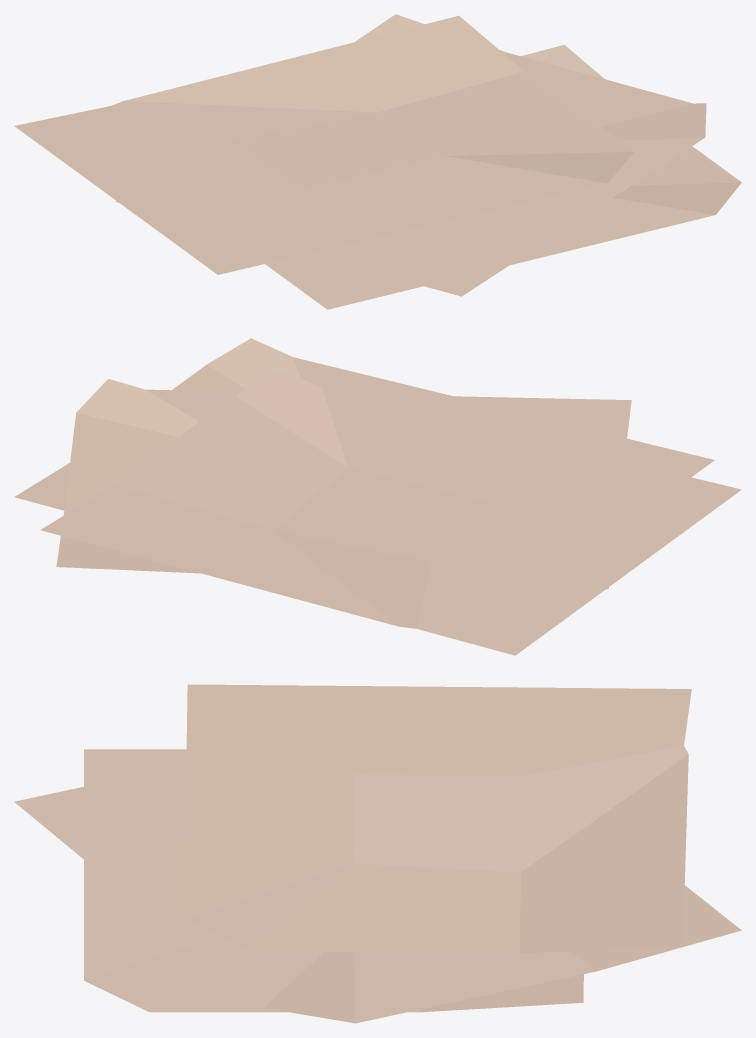
Rendered from papers.fbx.
The picture shows the model from 3 angles, top to bottom: view 1: azimuth 30°, elevation 25°; view 2: azimuth 150°, elevation 25°; view 3: azimuth 270°, elevation 25°; orthographic projection. The views are drawn at different scales.
Parts seen in each view (by area): view 1: papaers; view 2: papaers; view 3: papaers.
Boxes of the visible parts, box(x1,y1,x2,y2) form: papaers: box(14, 14, 741, 309); papaers: box(14, 338, 741, 655); papaers: box(14, 684, 741, 1023).
Size of the model in its own units: 135 by 9.9 by 128.
